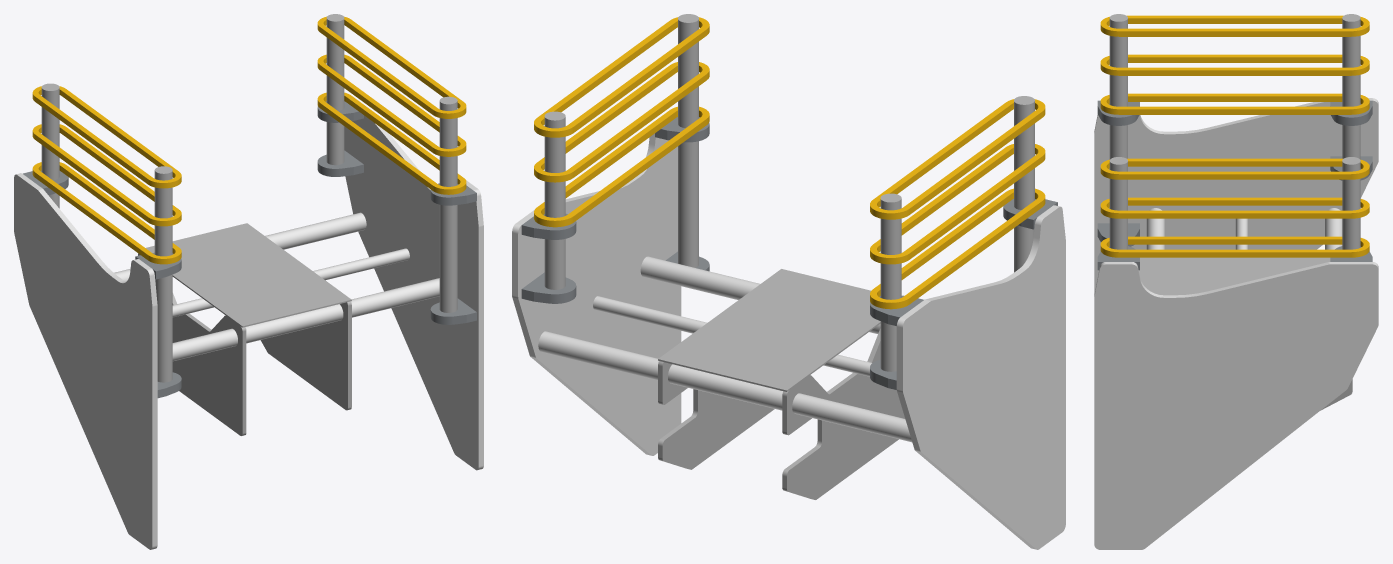
File: Wildstang2019 - manipulator.gltf
The picture shows the model from 3 angles, left to right: view 1: azimuth 30°, elevation 25°; view 2: azimuth 150°, elevation 25°; view 3: azimuth 270°, elevation 25°; orthographic projection. The views are drawn at different scales.
Parts seen in each view (by area): view 1: leftManipPlate, Part 81, polycord (×6), topMidPlate, leftInnerPlate, rightInnerPlate, back bar, Part 87, rearShaft, Part 86, forward bar, mid Bar (+4 smaller); view 2: leftManipPlate, Part 81, polycord (×6), topMidPlate, leftInnerPlate, forward bar, rightInnerPlate, Part 87, Part 86, forwardShaft, rearShaft, back bar (+3 smaller); view 3: Part 81, polycord (×6), leftManipPlate, topMidPlate, rearShaft, forwardShaft, Part 86, Part 87, bracket (×3), back bar, forward bar.
Part boxes in pixels (bbox=[...]): leftManipPlate: bbox=[14, 173, 157, 549]; Part 81: bbox=[344, 115, 483, 470]; polycord (×6): bbox=[32, 16, 466, 264]; topMidPlate: bbox=[146, 223, 351, 327]; leftInnerPlate: bbox=[138, 253, 246, 435]; rightInnerPlate: bbox=[260, 301, 351, 410]; back bar: bbox=[172, 278, 439, 361]; Part 87: bbox=[439, 96, 457, 312]; rearShaft: bbox=[154, 166, 172, 382]; Part 86: bbox=[326, 14, 344, 165]; forward bar: bbox=[114, 212, 366, 281]; mid Bar: bbox=[172, 248, 409, 317]; leftManipPlate: bbox=[896, 205, 1065, 549]; Part 81: bbox=[512, 133, 681, 455]; polycord (×6): bbox=[534, 17, 1045, 309]; topMidPlate: bbox=[658, 269, 880, 391]; leftInnerPlate: bbox=[782, 328, 905, 499]; forward bar: bbox=[538, 331, 911, 442]; rightInnerPlate: bbox=[658, 361, 774, 469]; Part 87: bbox=[678, 14, 698, 267]; Part 86: bbox=[544, 111, 565, 289]; forwardShaft: bbox=[880, 193, 901, 371]; rearShaft: bbox=[1014, 96, 1034, 272]; back bar: bbox=[640, 256, 880, 333]; Part 81: bbox=[1094, 262, 1378, 549]; polycord (×6): bbox=[1100, 15, 1369, 257]; leftManipPlate: bbox=[1094, 98, 1378, 293]; topMidPlate: bbox=[1138, 257, 1330, 295]; rearShaft: bbox=[1109, 14, 1127, 159]; forwardShaft: bbox=[1342, 14, 1360, 159]; Part 86: bbox=[1342, 157, 1360, 249]; Part 87: bbox=[1109, 157, 1127, 249]; bracket (×3): bbox=[1097, 100, 1372, 246]; back bar: bbox=[1146, 208, 1164, 249]; forward bar: bbox=[1325, 208, 1342, 249].
Size of the model in its own units: 0.4064 by 0.4302 by 0.2937.
